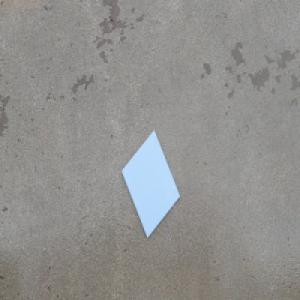PaintChip: (120, 127, 180, 239)
